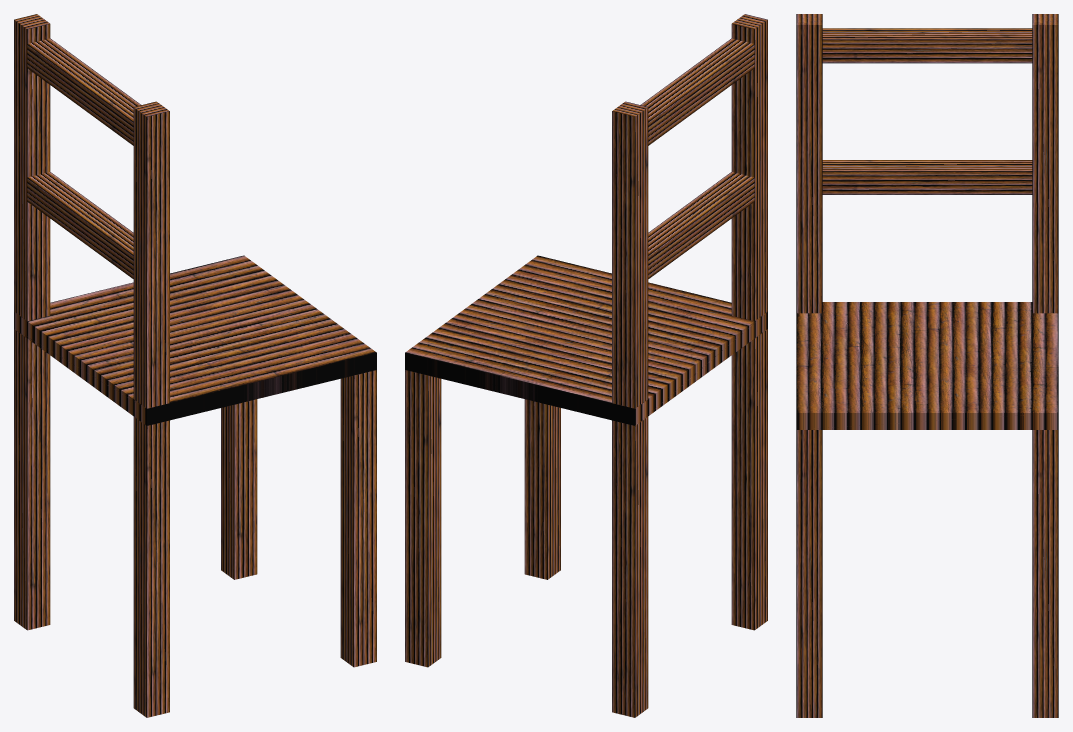
The model's file is chair.glb.
The picture shows the model from 3 angles, left to right: view 1: azimuth 30°, elevation 25°; view 2: azimuth 150°, elevation 25°; view 3: azimuth 270°, elevation 25°; orthographic projection.
Parts seen in each view (by area): view 1: Plane, Cube, Cube.004, Cube.005, Cube.007, Cube.001, Cube.006, Cube.002, Cube.003; view 2: Plane, Cube.001, Cube.007, Cube.006, Cube.004, Cube, Cube.005, Cube.002, Cube.003; view 3: Plane, Cube, Cube.001, Cube.005, Cube.006, Cube.002, Cube.003.
Part boxes in pixels (x1,y1,x2,y2): Plane: (14,255,376,425); Cube: (133,101,169,408); Cube.004: (133,417,169,717); Cube.005: (340,370,376,667); Cube.007: (14,329,50,630); Cube.001: (14,14,50,321); Cube.006: (221,399,257,579); Cube.002: (27,38,141,145); Cube.003: (27,172,133,278); Plane: (405,255,767,425); Cube.001: (612,101,648,408); Cube.007: (612,417,648,717); Cube.006: (405,370,441,667); Cube.004: (731,329,767,630); Cube: (731,14,767,321); Cube.005: (524,399,560,579); Cube.002: (640,38,754,145); Cube.003: (648,172,754,278); Plane: (796,302,1058,429); Cube: (796,14,822,313); Cube.001: (1032,14,1058,313); Cube.005: (796,430,822,717); Cube.006: (1032,430,1058,717); Cube.002: (822,28,1032,63); Cube.003: (822,160,1032,194).
Size of the model in its own units: 2 by 4.99 by 2.
1 material, 1 textured.
